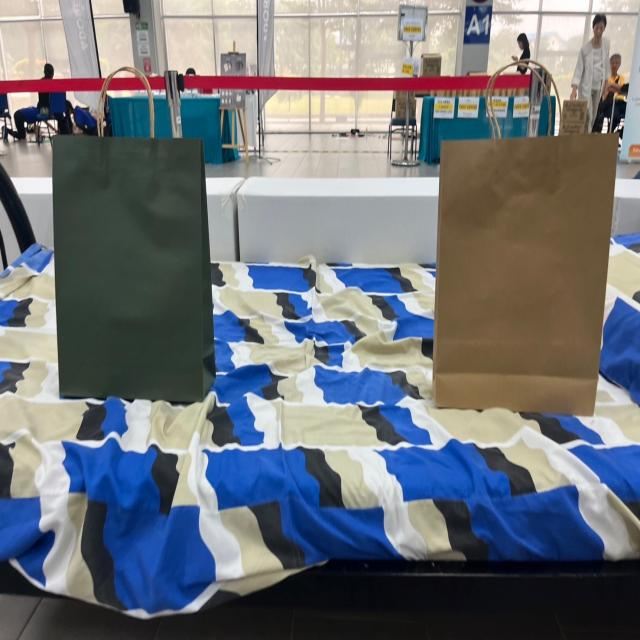bag: (448, 74, 590, 408), (68, 78, 202, 386)
